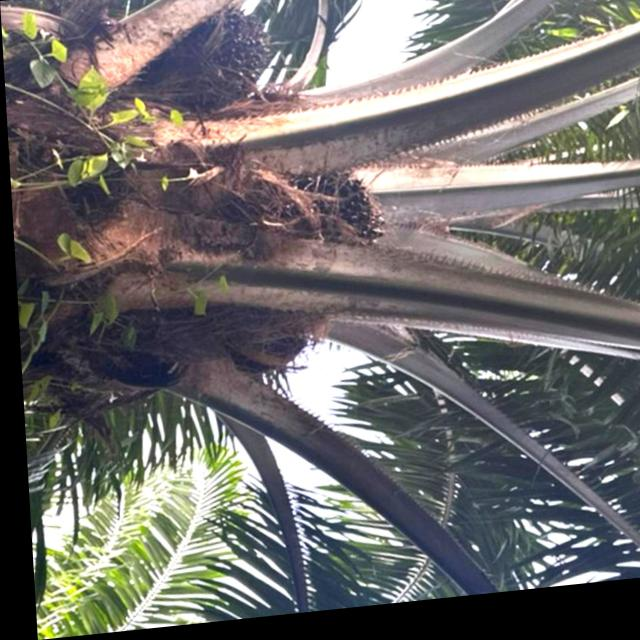almost: (235, 167, 384, 307)
